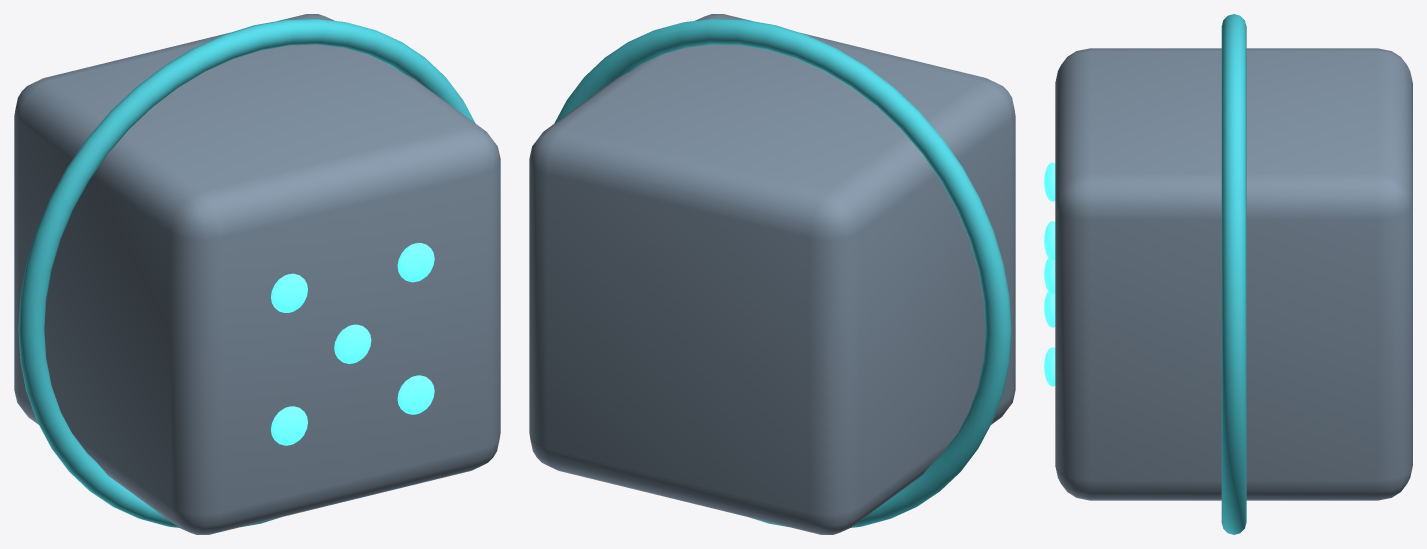
File: trinket_v8.glb
3 renders of one model, left to right at view 1: azimuth 30°, elevation 25°; view 2: azimuth 150°, elevation 25°; view 3: azimuth 270°, elevation 25°, orthographic. The views are drawn at different scales.
Parts seen in each view (by area): view 1: TRICKSTER_DIE_PRIMARY, DIE_AURA_ACCENT, DIE_PIP_EMISSIVE.004, DIE_PIP_EMISSIVE.003, DIE_PIP_EMISSIVE.002, DIE_PIP_EMISSIVE.001, DIE_PIP_EMISSIVE; view 2: TRICKSTER_DIE_PRIMARY, DIE_AURA_ACCENT; view 3: TRICKSTER_DIE_PRIMARY, DIE_AURA_ACCENT.
Boxes of the visible parts, x1,y1,x2,y2 form: TRICKSTER_DIE_PRIMARY: [14, 14, 500, 534]; DIE_AURA_ACCENT: [18, 18, 475, 527]; DIE_PIP_EMISSIVE.004: [334, 324, 371, 363]; DIE_PIP_EMISSIVE.003: [397, 375, 434, 414]; DIE_PIP_EMISSIVE.002: [271, 406, 307, 445]; DIE_PIP_EMISSIVE.001: [397, 243, 434, 282]; DIE_PIP_EMISSIVE: [271, 273, 307, 312]; TRICKSTER_DIE_PRIMARY: [529, 14, 1015, 534]; DIE_AURA_ACCENT: [554, 18, 1011, 527]; TRICKSTER_DIE_PRIMARY: [1055, 48, 1412, 500]; DIE_AURA_ACCENT: [1221, 14, 1246, 534].
Size of the model in its own units: 2.1 by 2.1 by 1.49.
